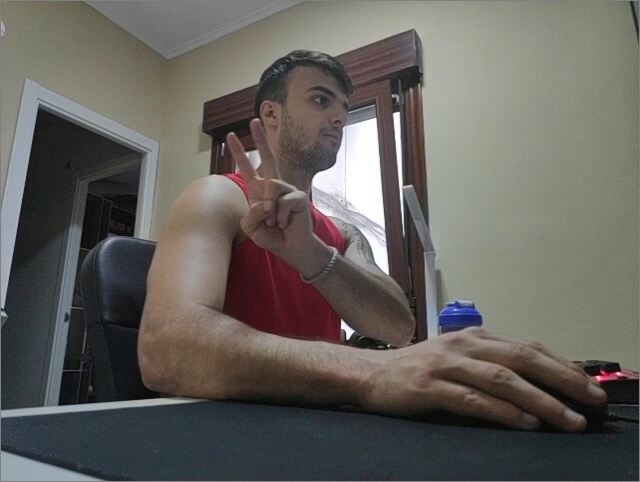Peace: (225, 116, 315, 256)
